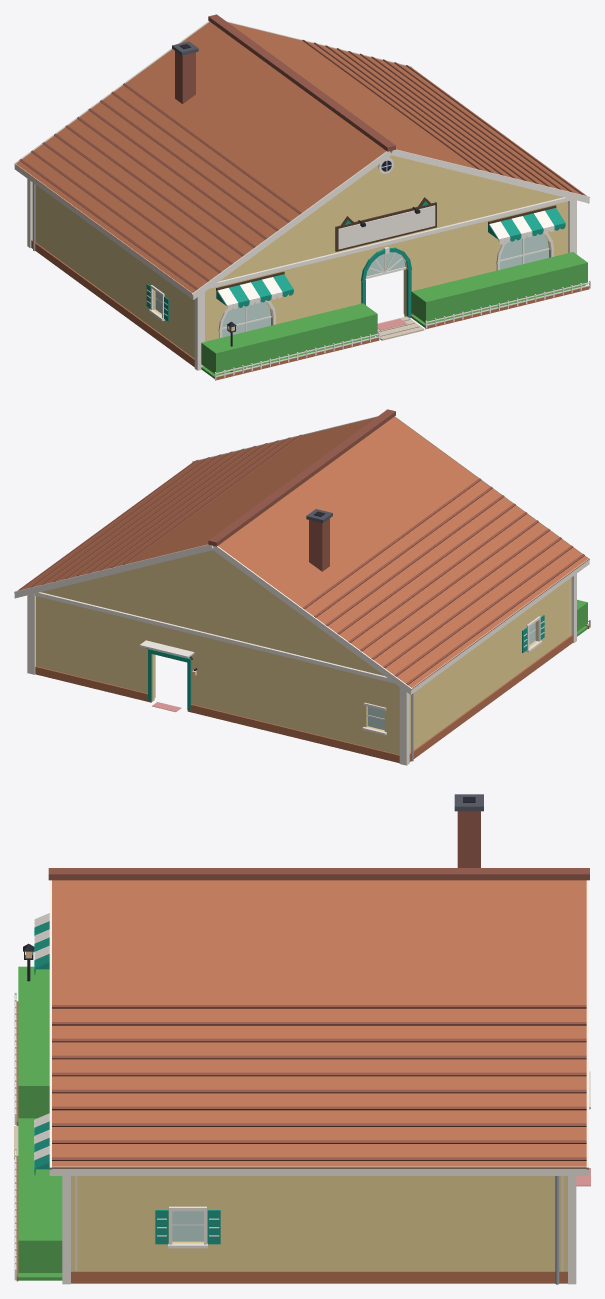
Rendered from CatCafe_Plot_Cafe_Butter_60x46.glb.
The picture shows the model from 3 angles, top to bottom: view 1: azimuth 30°, elevation 25°; view 2: azimuth 150°, elevation 25°; view 3: azimuth 270°, elevation 25°; orthographic projection. The views are drawn at different scales.
Visible parts, largest first — view 1: CatCafe_Plot_Cafe_Butter_60x46_Roof, CatCafe_Plot_Cafe_Butter_60x46_Paint, CatCafe_Plot_Cafe_Butter_60x46_Fireflies, CatCafe_Plot_Cafe_Butter_60x46_Trim, CatCafe_Plot_Cafe_Butter_60x46_Roof_Trim, CatCafe_Plot_Cafe_Butter_60x46_Awning, CatCafe_Plot_Cafe_Butter_60x46, CatCafe_Plot_Cafe_Butter_60x46_Glass, CatCafe_Plot_Cafe_Butter_60x46_Garden, CatCafe_Plot_Cafe_Butter_60x46_SignBoard, CatCafe_Plot_Cafe_Butter_60x46_Flowers, CatCafe_Plot_Cafe_Butter_60x46_Path; view 2: CatCafe_Plot_Cafe_Butter_60x46_Roof, CatCafe_Plot_Cafe_Butter_60x46_Paint, CatCafe_Plot_Cafe_Butter_60x46_Trim, CatCafe_Plot_Cafe_Butter_60x46_Roof_Trim, CatCafe_Plot_Cafe_Butter_60x46; view 3: CatCafe_Plot_Cafe_Butter_60x46_Roof, CatCafe_Plot_Cafe_Butter_60x46_Paint, CatCafe_Plot_Cafe_Butter_60x46_Fireflies, CatCafe_Plot_Cafe_Butter_60x46, CatCafe_Plot_Cafe_Butter_60x46_Roof_Trim, CatCafe_Plot_Cafe_Butter_60x46_Trim, CatCafe_Plot_Cafe_Butter_60x46_Awning, CatCafe_Plot_Cafe_Butter_60x46_Garden, CatCafe_Plot_Cafe_Butter_60x46_Glass.
Boxes of the visible parts, x1,y1,x2,y2 form: CatCafe_Plot_Cafe_Butter_60x46_Roof: (15,14,586,293); CatCafe_Plot_Cafe_Butter_60x46_Paint: (32,155,568,358); CatCafe_Plot_Cafe_Butter_60x46_Fireflies: (201,252,587,374); CatCafe_Plot_Cafe_Butter_60x46_Trim: (27,157,576,370); CatCafe_Plot_Cafe_Butter_60x46_Roof_Trim: (14,21,590,299); CatCafe_Plot_Cafe_Butter_60x46_Awning: (216,208,565,310); CatCafe_Plot_Cafe_Butter_60x46: (31,160,549,366); CatCafe_Plot_Cafe_Butter_60x46_Glass: (155,233,548,337); CatCafe_Plot_Cafe_Butter_60x46_Garden: (214,280,590,380); CatCafe_Plot_Cafe_Butter_60x46_SignBoard: (338,205,435,249); CatCafe_Plot_Cafe_Butter_60x46_Flowers: (201,285,585,378); CatCafe_Plot_Cafe_Butter_60x46_Path: (376,316,424,340); CatCafe_Plot_Cafe_Butter_60x46_Roof: (17,409,588,688); CatCafe_Plot_Cafe_Butter_60x46_Paint: (36,550,571,754); CatCafe_Plot_Cafe_Butter_60x46_Trim: (27,573,576,765); CatCafe_Plot_Cafe_Butter_60x46_Roof_Trim: (14,416,589,694); CatCafe_Plot_Cafe_Butter_60x46: (35,615,572,763); CatCafe_Plot_Cafe_Butter_60x46_Roof: (48,794,589,1168); CatCafe_Plot_Cafe_Butter_60x46_Paint: (71,1176,567,1271); CatCafe_Plot_Cafe_Butter_60x46_Fireflies: (18,966,62,1272); CatCafe_Plot_Cafe_Butter_60x46: (71,1168,590,1284); CatCafe_Plot_Cafe_Butter_60x46_Roof_Trim: (49,880,588,1175); CatCafe_Plot_Cafe_Butter_60x46_Trim: (62,1071,590,1284); CatCafe_Plot_Cafe_Butter_60x46_Awning: (34,913,49,1174); CatCafe_Plot_Cafe_Butter_60x46_Garden: (14,943,34,1281); CatCafe_Plot_Cafe_Butter_60x46_Glass: (172,1211,203,1241).
Bounding box in the file's own units: 65.86 × 31 × 54.8.
1 material, 1 textured.
